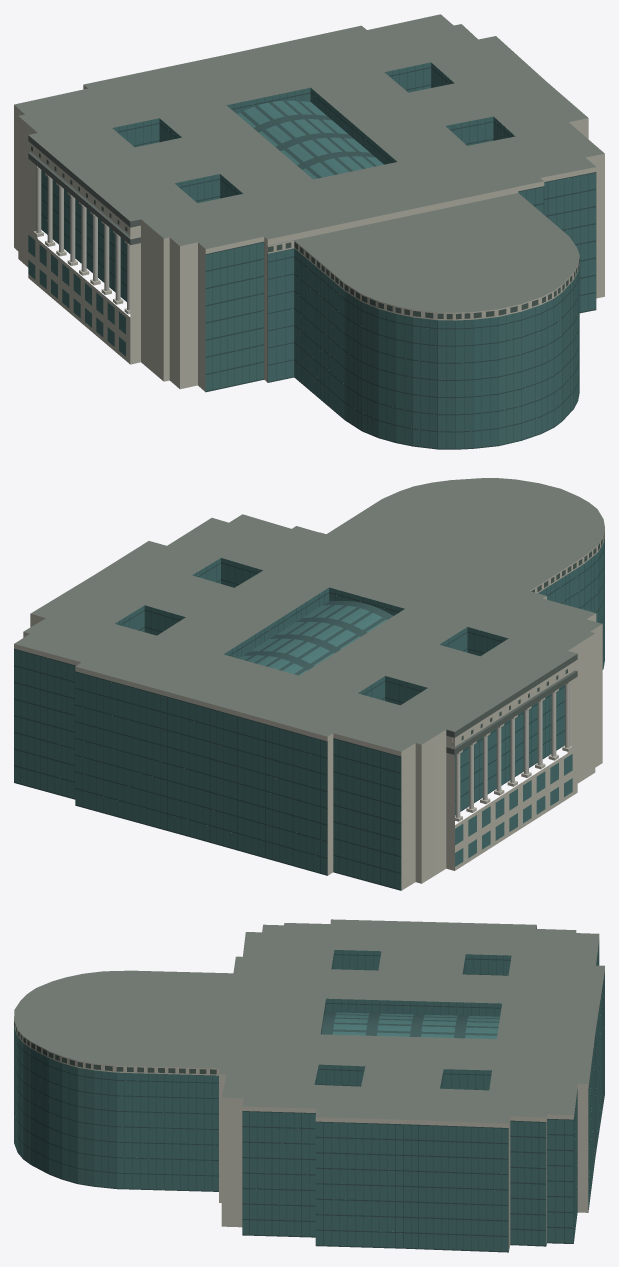
File: national-library-romania-near.glb
The picture shows the model from 3 angles, top to bottom: view 1: azimuth 30°, elevation 25°; view 2: azimuth 150°, elevation 25°; view 3: azimuth 270°, elevation 25°; orthographic projection. The views are drawn at different scales.
Visible parts, largest first — view 1: national-library-romania-0-roof, national-library-romania-0-glass, national-library-romania-0-stone, national-library-romania-0-mullion, national-library-romania-0-column, national-library-romania-0-cornice, national-library-romania-0-vent; view 2: national-library-romania-0-roof, national-library-romania-0-glass, national-library-romania-0-stone, national-library-romania-0-mullion, national-library-romania-0-column, national-library-romania-0-cornice; view 3: national-library-romania-0-roof, national-library-romania-0-glass, national-library-romania-0-mullion, national-library-romania-0-stone, national-library-romania-0-vent.
Boxes of the visible parts, x1,y1,x2,y2 form: national-library-romania-0-roof: [14, 14, 604, 312]; national-library-romania-0-glass: [28, 62, 595, 448]; national-library-romania-0-stone: [14, 85, 604, 391]; national-library-romania-0-mullion: [41, 62, 596, 449]; national-library-romania-0-column: [36, 167, 130, 310]; national-library-romania-0-cornice: [28, 135, 140, 245]; national-library-romania-0-vent: [31, 146, 579, 319]; national-library-romania-0-roof: [14, 478, 604, 751]; national-library-romania-0-glass: [14, 536, 604, 889]; national-library-romania-0-stone: [14, 528, 604, 890]; national-library-romania-0-mullion: [14, 543, 604, 890]; national-library-romania-0-column: [455, 683, 569, 817]; national-library-romania-0-cornice: [446, 654, 577, 754]; national-library-romania-0-roof: [14, 919, 604, 1123]; national-library-romania-0-glass: [14, 940, 604, 1251]; national-library-romania-0-mullion: [14, 939, 604, 1252]; national-library-romania-0-stone: [14, 927, 604, 1251]; national-library-romania-0-vent: [14, 1021, 216, 1074].
Size of the model in its own units: 119 by 35 by 145.
